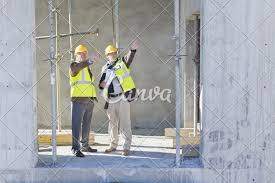helmet: (75, 45, 87, 53), (104, 45, 116, 53)
vest: (69, 64, 96, 97), (107, 62, 134, 91)
